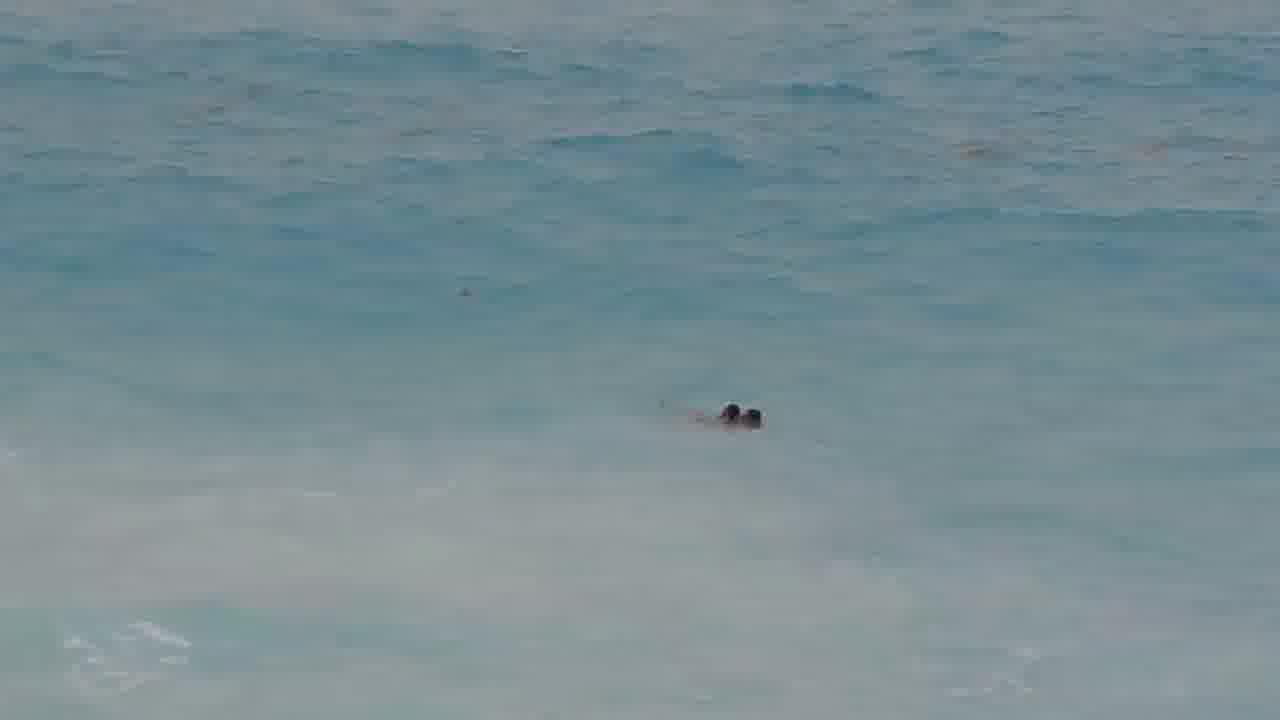human: (688, 394, 741, 432), (740, 398, 781, 432)
